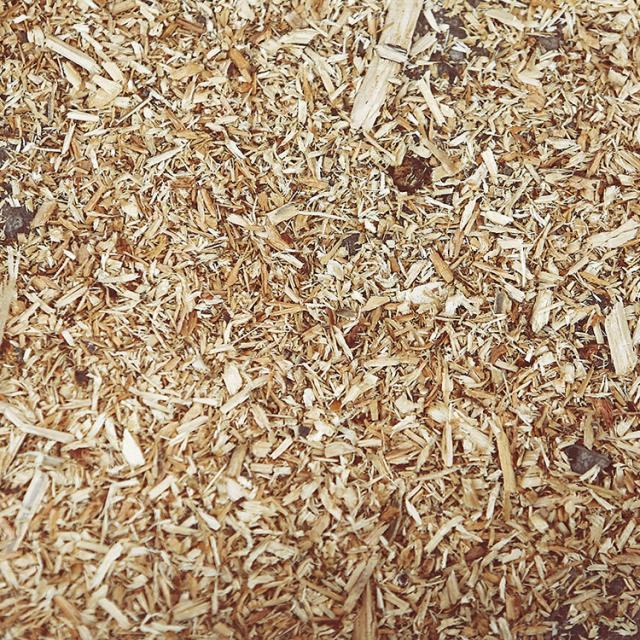green waste: (0, 1, 634, 631)
